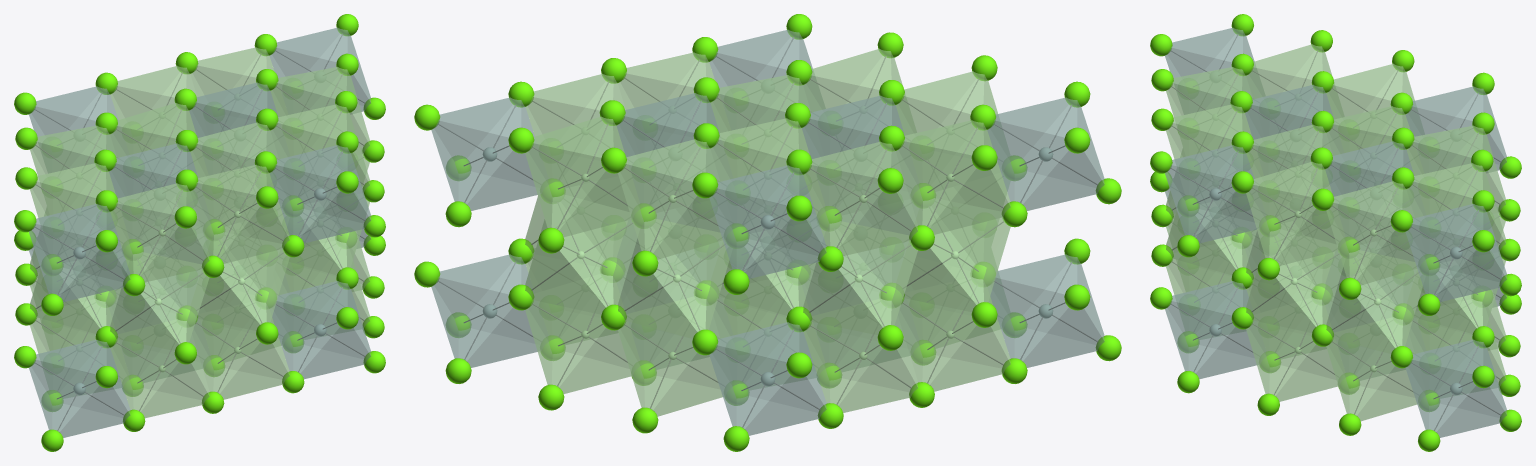
Rendered from Li3YCl6.glb.
3 renders of one model, left to right at view 1: azimuth 30°, elevation 25°; view 2: azimuth 150°, elevation 25°; view 3: azimuth 270°, elevation 25°, orthographic. The views are drawn at different scales.
Visible parts, largest first — view 1: Shape_IndexedFaceSet, Shape_IndexedFaceSet.240, atom5_IndexedFaceSet, Shape_Cylinder, atom2_IndexedFaceSet; view 2: Shape_IndexedFaceSet, Shape_IndexedFaceSet.240, atom5_IndexedFaceSet, Shape_Cylinder, atom2_IndexedFaceSet, atom0_IndexedFaceSet; view 3: Shape_IndexedFaceSet, Shape_IndexedFaceSet.240, atom5_IndexedFaceSet, Shape_Cylinder, atom2_IndexedFaceSet.
Boxes of the visible parts, x1,y1,x2,y2 form: Shape_IndexedFaceSet: (30, 47, 369, 418); Shape_IndexedFaceSet.240: (29, 27, 370, 437); atom5_IndexedFaceSet: (14, 14, 385, 451); Shape_Cylinder: (35, 34, 365, 430); atom2_IndexedFaceSet: (73, 188, 326, 395); Shape_IndexedFaceSet: (525, 49, 1010, 416); Shape_IndexedFaceSet.240: (431, 29, 1104, 435); atom5_IndexedFaceSet: (414, 14, 1121, 451); Shape_Cylinder: (438, 37, 1097, 427); atom2_IndexedFaceSet: (482, 147, 1053, 386); atom0_IndexedFaceSet: (576, 173, 959, 359); Shape_IndexedFaceSet: (1166, 44, 1505, 421); Shape_IndexedFaceSet.240: (1165, 27, 1506, 437); atom5_IndexedFaceSet: (1150, 14, 1521, 451); Shape_Cylinder: (1171, 34, 1501, 430); atom2_IndexedFaceSet: (1209, 188, 1462, 395).
Size of the model in its own units: 21.52 by 10.13 by 15.
